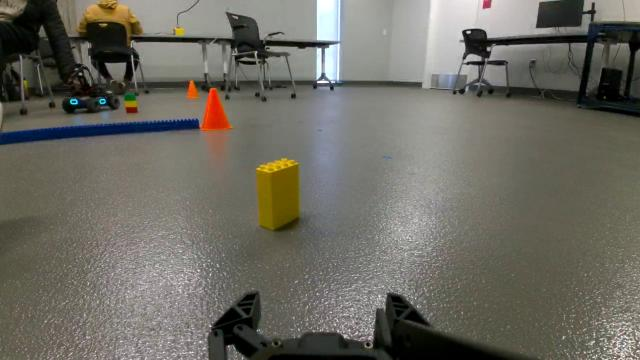lego: (235, 155, 326, 238), (121, 90, 144, 119)
